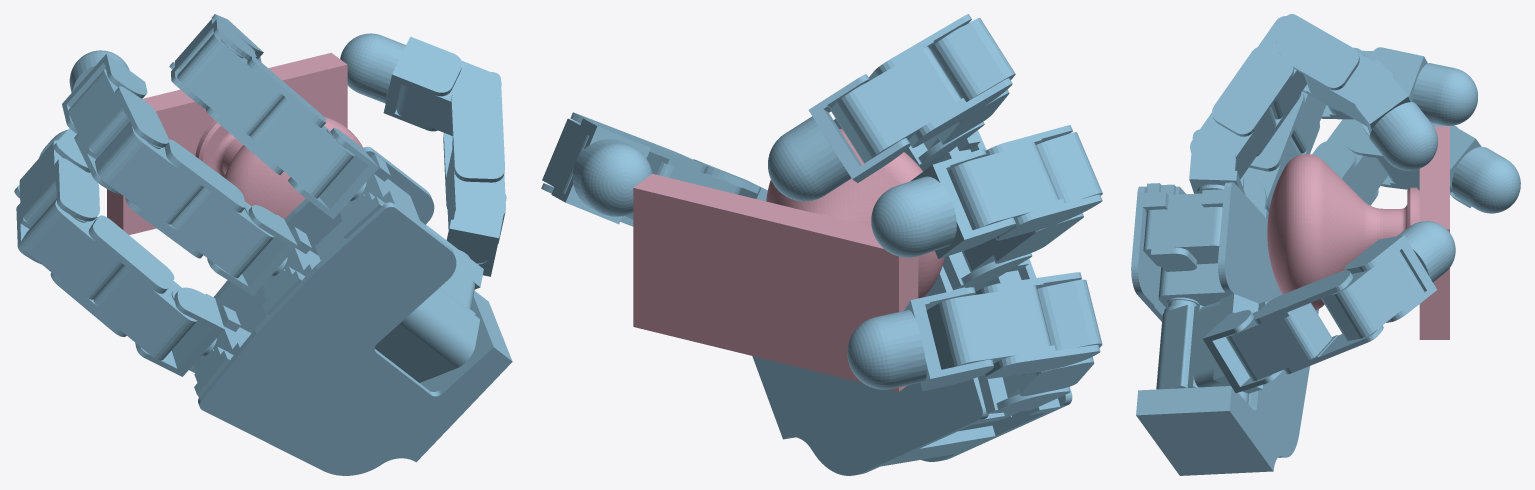
3 renders of one model, left to right at view 1: azimuth 30°, elevation 25°; view 2: azimuth 150°, elevation 25°; view 3: azimuth 270°, elevation 25°, orthographic. The views are drawn at different scales.
Visible parts, largest first — view 1: world; view 2: world; view 3: world.
Part boxes in pixels (left/top/right/bottom): world: left=14, top=14, right=512, bottom=475; world: left=541, top=14, right=1102, bottom=475; world: left=1131, top=14, right=1520, bottom=475.
Size of the model in its own units: 0.2103 by 0.1835 by 0.1599.
